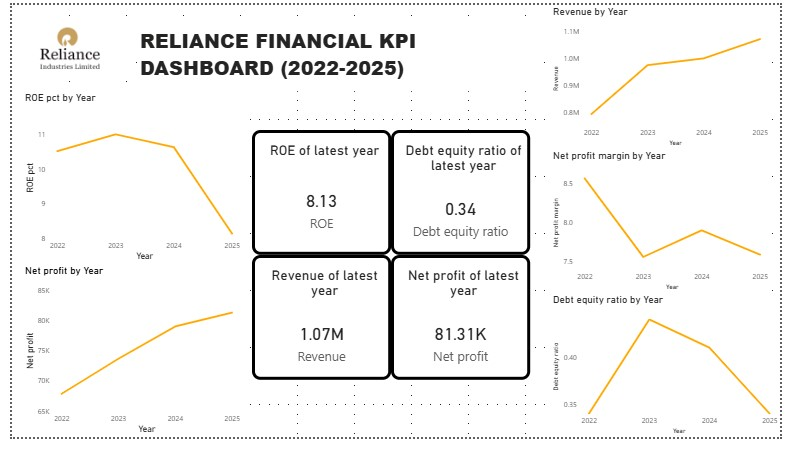

The dashboard page shown, as its layout file describes it:
{"tool":"powerbi","page":{"name":"final dashboard","canvas":[1280,720],"ordinal":3},"visuals":[{"type":"lineChart","fields":{"Category":["public financial_kpis.year"],"Y":["Sum(public financial_kpis.revenue)"]},"box":[896,0,368,240],"z":0},{"type":"card","title":"Net profit of latest year","fields":{"Values":["Sum(public financial_kpis.net_profit)"]},"box":[632,416,232,208],"z":0,"group":"g1"},{"type":"card","title":"Debt equity ratio of latest year","fields":{"Values":["Sum(public financial_kpis.debt_equity_ratio)"]},"box":[632,208,232,208],"z":1000,"group":"g1"},{"type":"lineChart","fields":{"Category":["public financial_kpis.year"],"Y":["Sum(public financial_kpis.net_profit)"]},"box":[16,432,368,288],"z":1000},{"type":"lineChart","fields":{"Category":["public financial_kpis.year"],"Y":["Median(public financial_kpis.net_profit_margin)"]},"box":[896,240,368,240],"z":2000},{"type":"card","title":"Revenue of latest year","fields":{"Values":["Sum(public financial_kpis.revenue)"]},"box":[400,416,232,208],"z":2000,"group":"g1"},{"type":"lineChart","fields":{"Category":["public financial_kpis.year"],"Y":["Sum(public financial_kpis.roe_pct)"]},"box":[16,144,368,288],"z":3000},{"type":"card","title":"ROE of latest year","fields":{"Values":["Sum(public financial_kpis.roe_pct)"]},"box":[400,208,232,208],"z":3000,"group":"g1"},{"type":"lineChart","fields":{"Category":["public financial_kpis.year"],"Y":["Sum(public financial_kpis.debt_equity_ratio)"]},"box":[896,480,384,240],"z":4000},{"type":"group","id":"g1","title":"Group 1","box":[400,208,464,416],"z":5000},{"type":"image","box":[0,0,192,144],"z":6000},{"type":"textbox","box":[208,32,672,112],"z":7000}]}

Visuals, with their boxes in screenshot pixels (x1, y1, x2, y2), scaled from the page's 1280x720 canvas onto the 802x453 screenshot:
lineChart - public financial_kpis.year x Sum(public financial_kpis.revenue): BBox(561, 0, 792, 151)
"Net profit of latest year" card: BBox(396, 262, 541, 393)
"Debt equity ratio of latest year" card: BBox(396, 131, 541, 262)
lineChart - public financial_kpis.year x Sum(public financial_kpis.net_profit): BBox(10, 272, 241, 452)
lineChart - public financial_kpis.year x Median(public financial_kpis.net_profit_margin): BBox(561, 151, 792, 302)
"Revenue of latest year" card: BBox(251, 262, 396, 393)
lineChart - public financial_kpis.year x Sum(public financial_kpis.roe_pct): BBox(10, 91, 241, 272)
"ROE of latest year" card: BBox(251, 131, 396, 262)
lineChart - public financial_kpis.year x Sum(public financial_kpis.debt_equity_ratio): BBox(561, 302, 801, 452)
"Group 1" group: BBox(251, 131, 541, 393)
image: BBox(0, 0, 120, 91)
textbox: BBox(130, 20, 551, 91)
